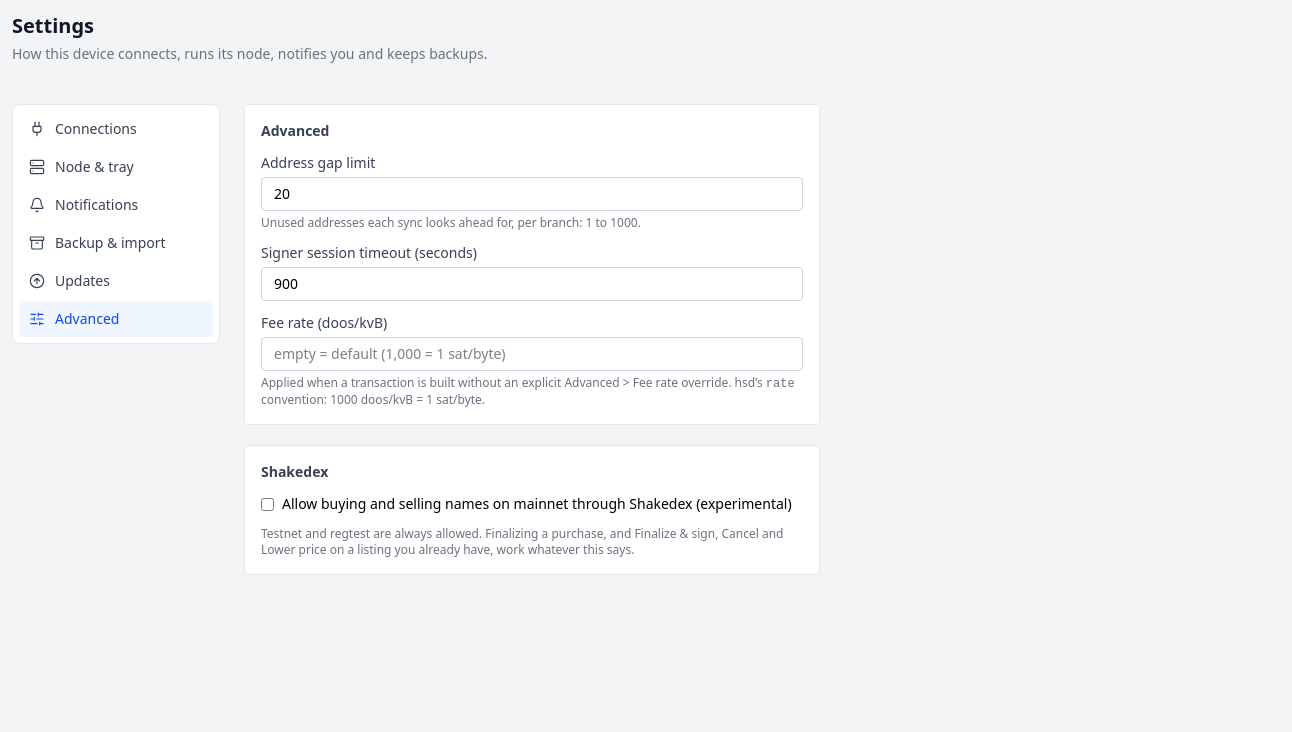
Test: Settings — Fee rate override › enables Save button when input is valid
This screenshot has width=1292, height=732.
Type "4000" into the field with test id "settings-fee-rate" at (532, 354), box top-left (261, 337), bottom-right (803, 371)
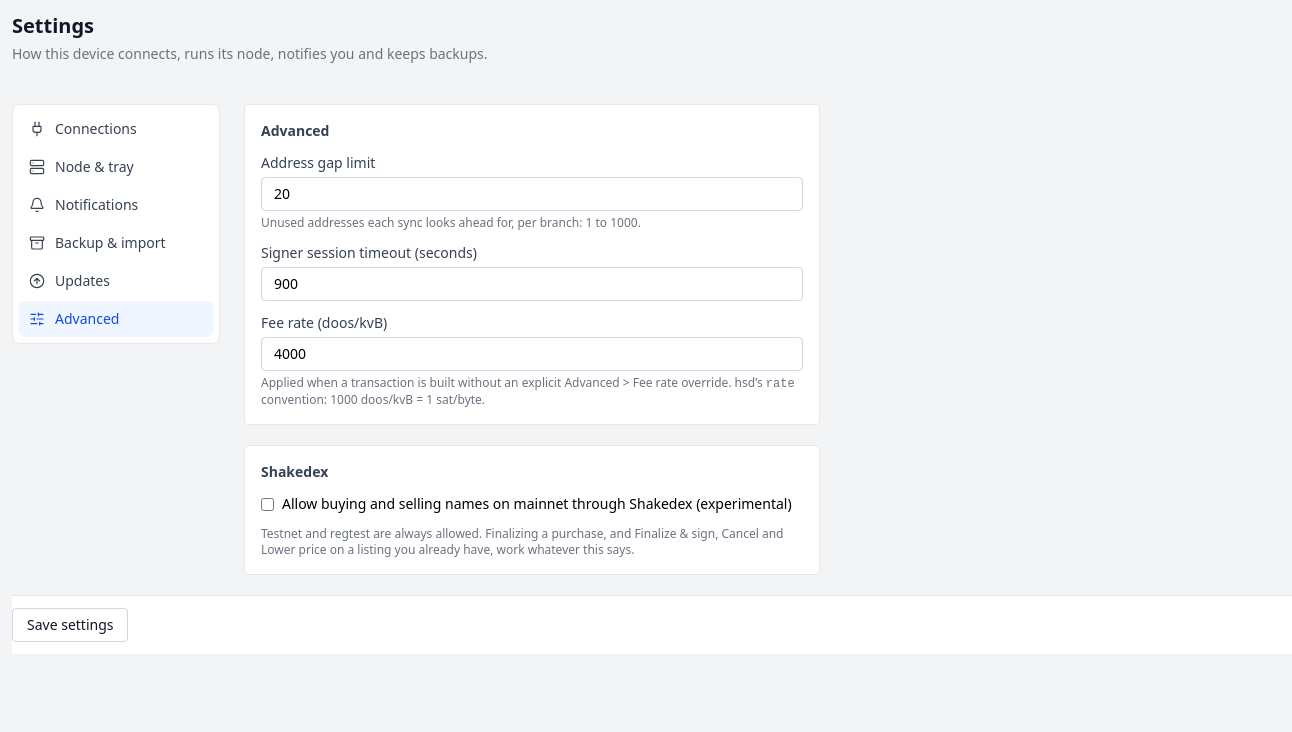
Result: the button with test id "settings-save" is enabled at top-left (12, 608), bottom-right (128, 642)
